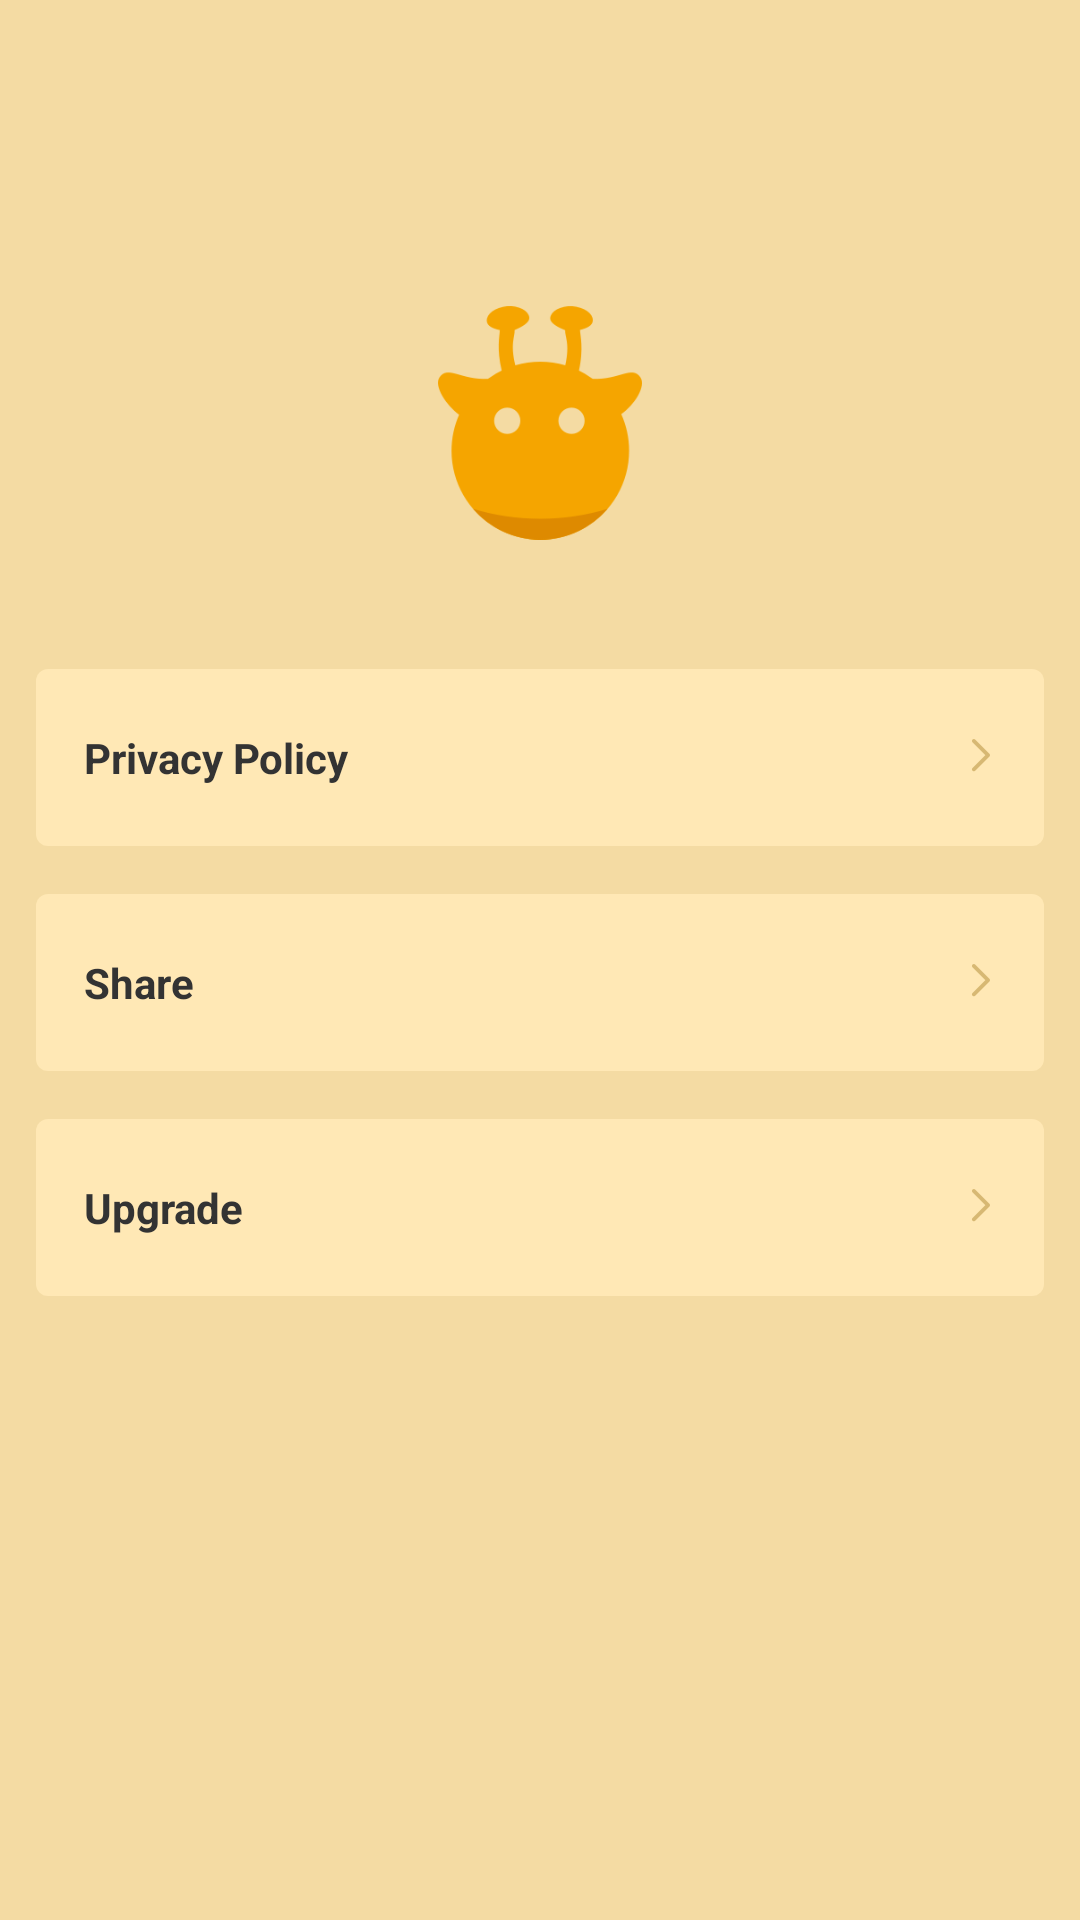

Screen size 1080*1920. Icon name, then its center in pixels as point (x, y):
right: point (981, 755), point (981, 980), point (981, 1205)
